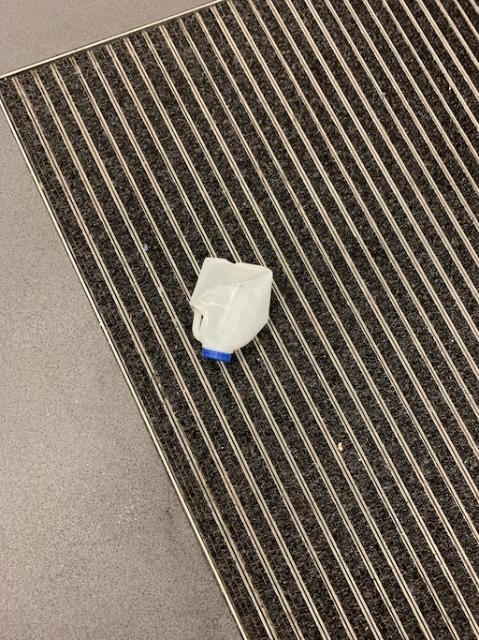plastic: (189, 257, 271, 361)
